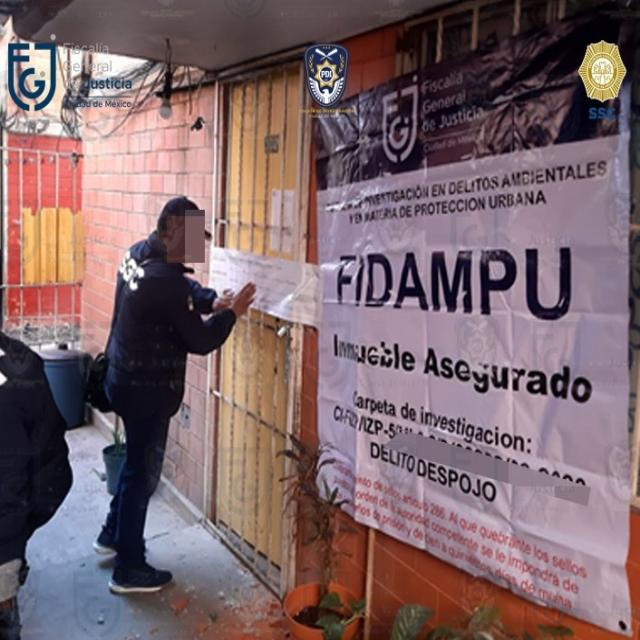stamps: (316, 23, 627, 633)
